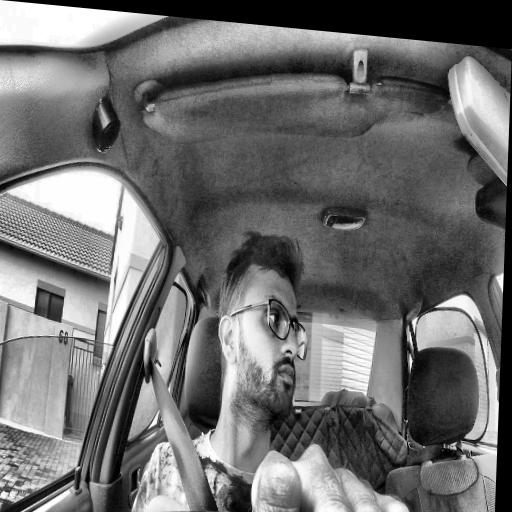awake: (214, 227, 313, 426)
